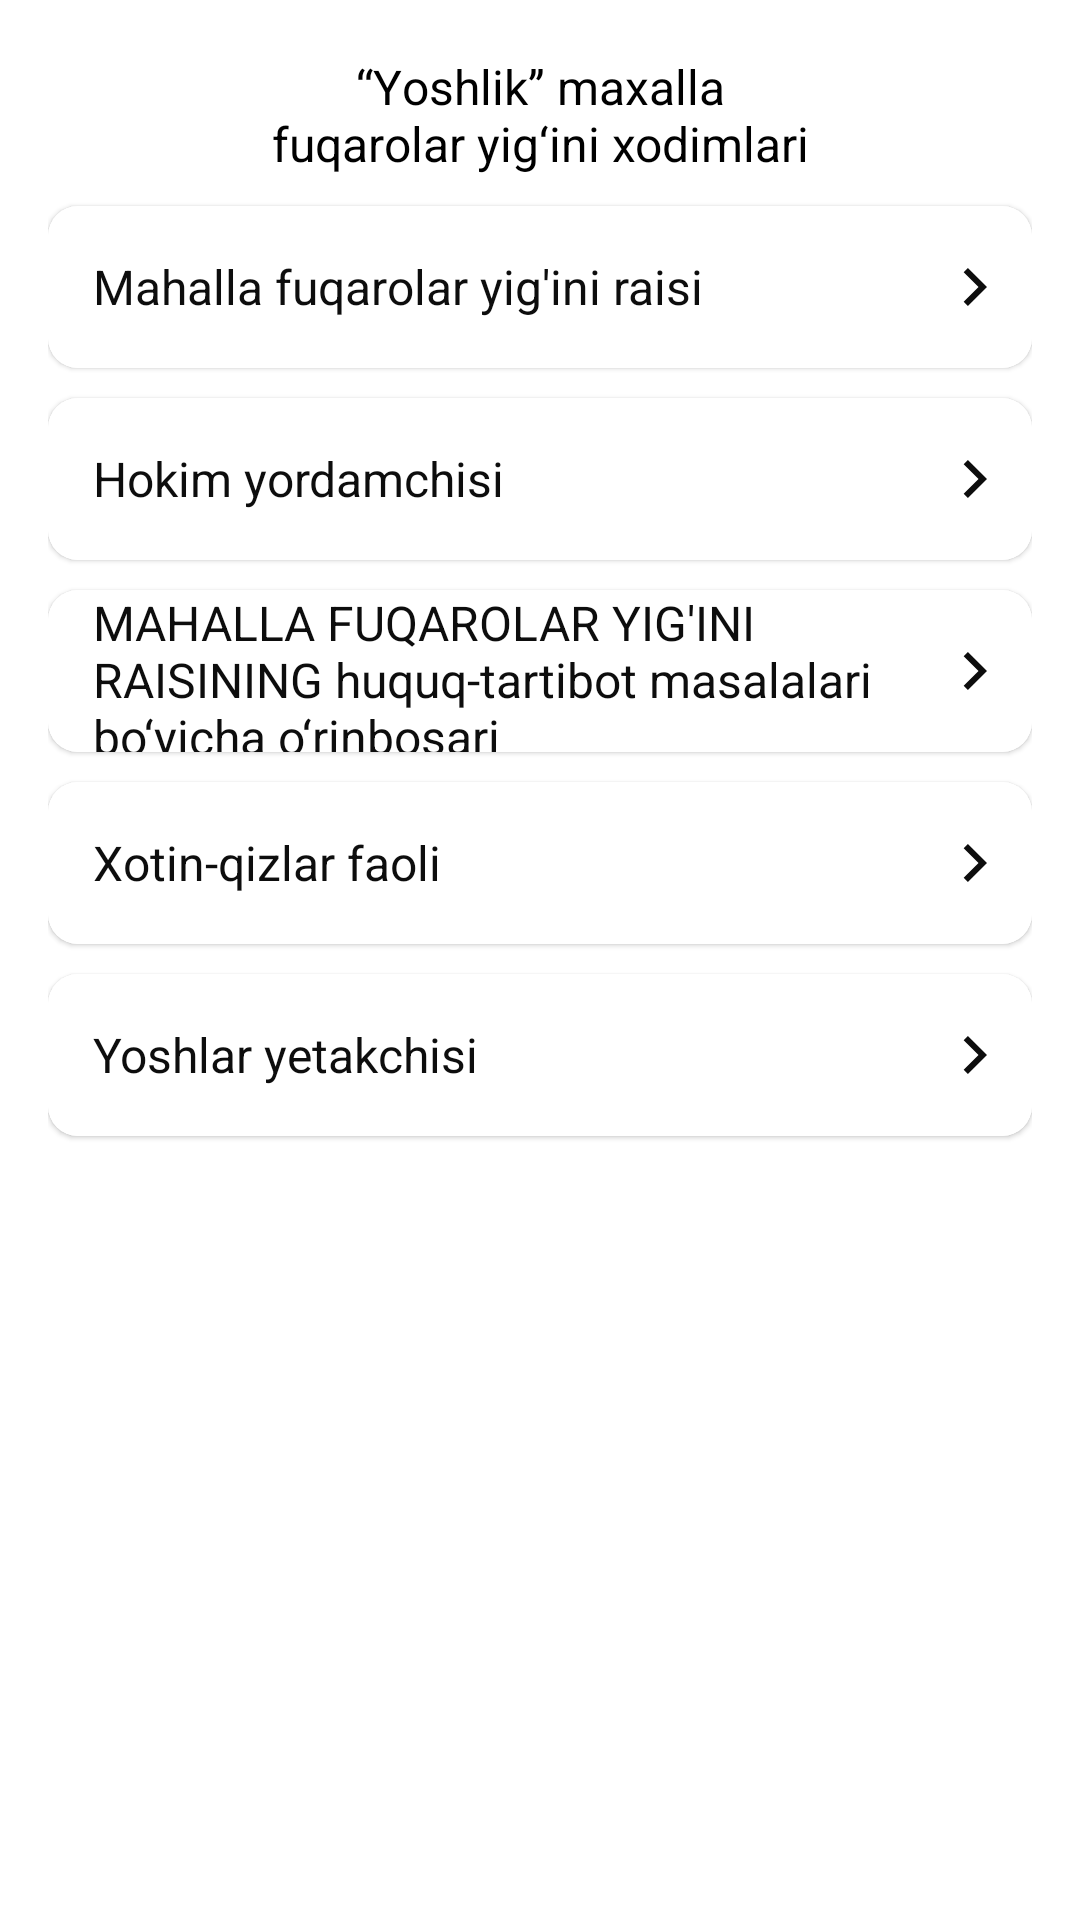

Locate icon controls on the screen. Image size 1080 × 1920, boxes as bbox=[x1, y1, x2, y2].
arrow right: bbox=[963, 268, 987, 306], bbox=[963, 460, 987, 498], bbox=[963, 652, 987, 690], bbox=[963, 844, 987, 882], bbox=[963, 1036, 987, 1074]
